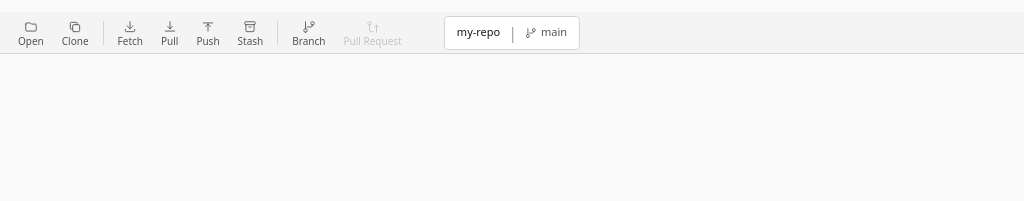
Scenario: ActionToolbar › Branch flyover › opens the branch form when Branch is clicked
This screenshot has width=1024, height=201.
Click the button with test id "toolbar-btn-Branch". click: (309, 32)
box: x1=284 y1=16 x2=334 y2=50
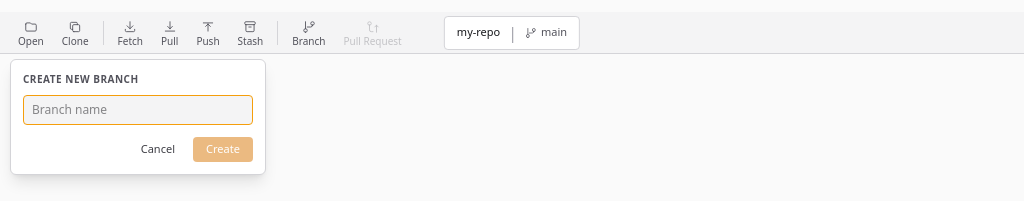
Check: the heading "Create New Branch" is shown, box x1=23 y1=72 x2=139 y2=86
Check: the field with placeholder "Branch name" is shown, box x1=23 y1=95 x2=253 y2=125
